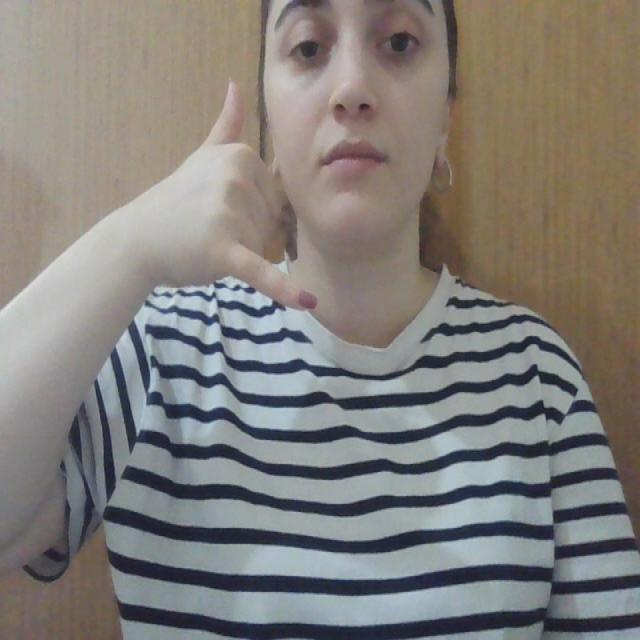Telefon: (178, 73, 321, 316)
